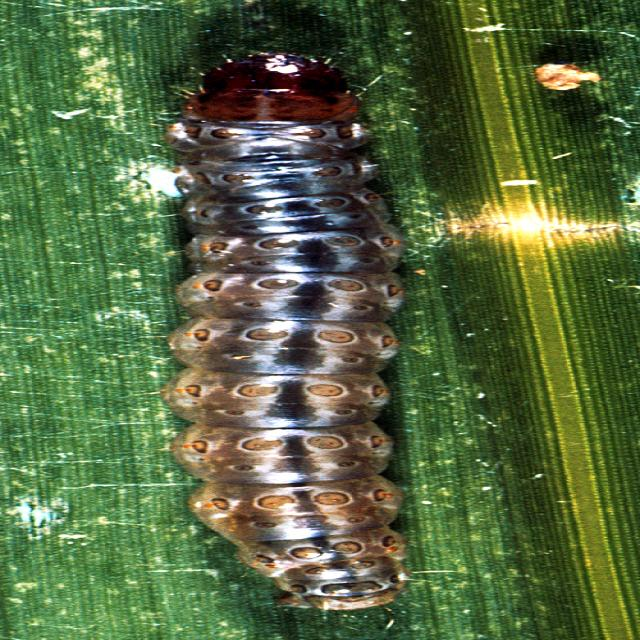cornborer-Larva-: (124, 36, 468, 618)
